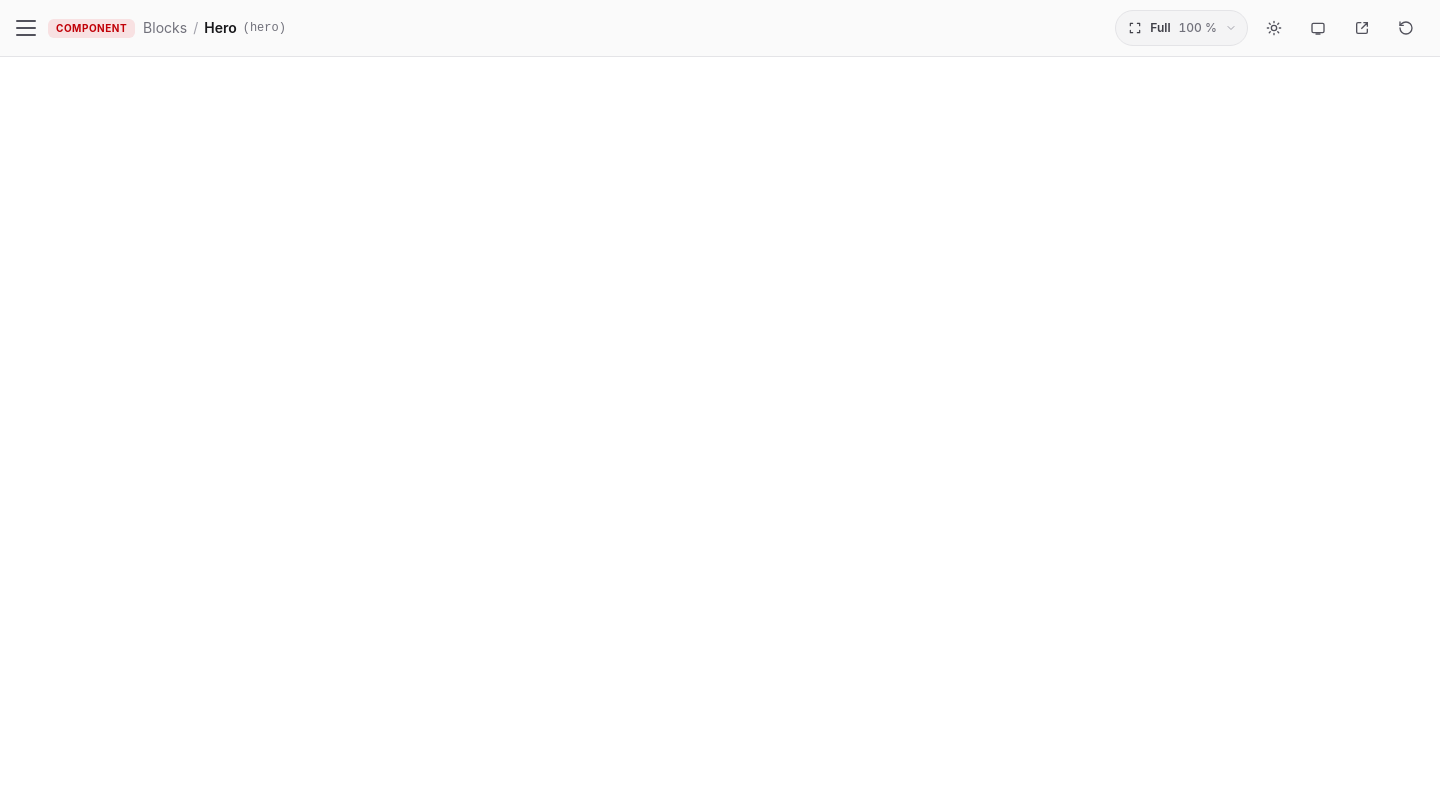
Test: ViewportToolbar — width checklist › hides "Compare all" when the project has one width
Click the button with test id "viewport-trigger" at (1182, 28), box left=1115, top=10, right=1248, bottom=46
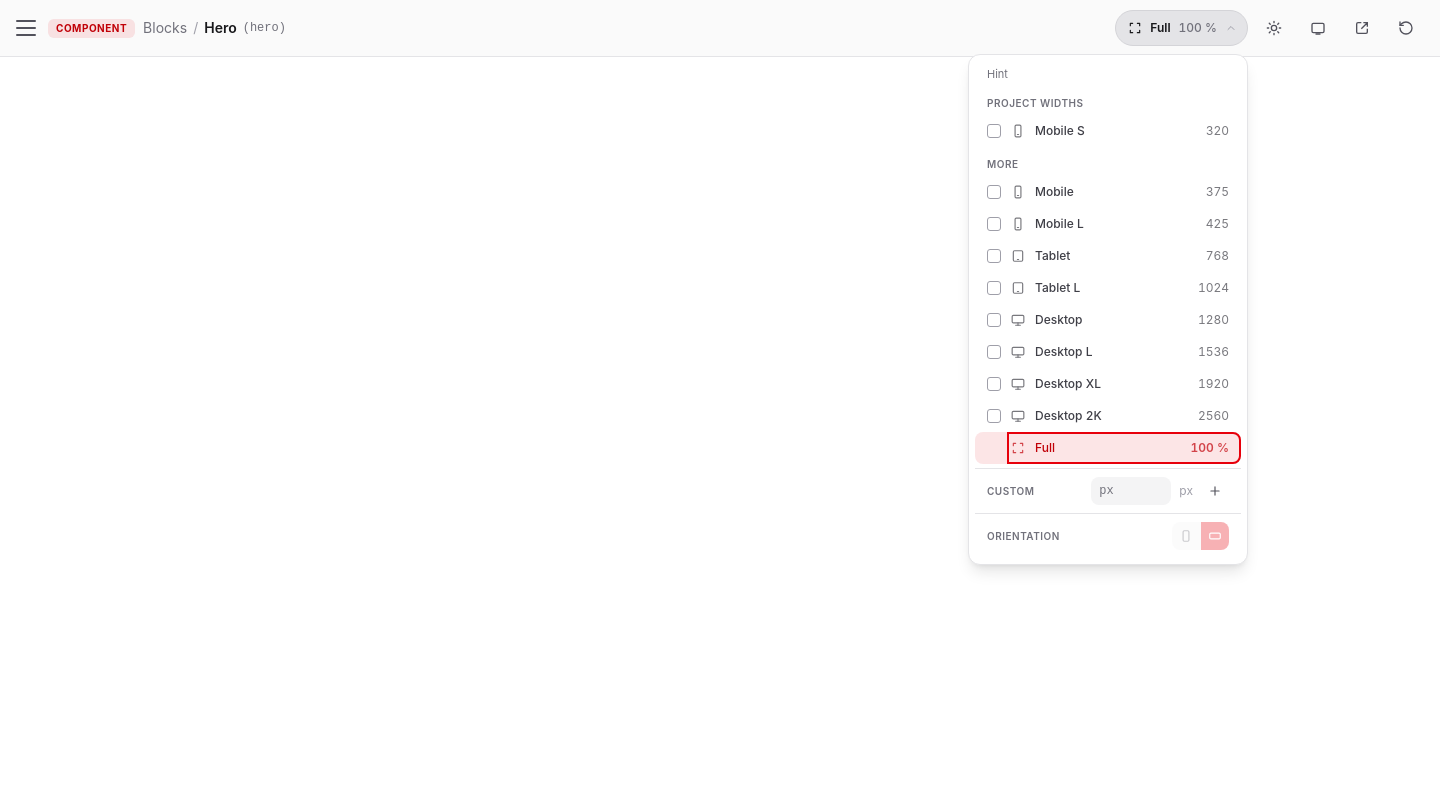
Check: the text "Project widths" is shown, box left=987, top=96, right=1084, bottom=111
